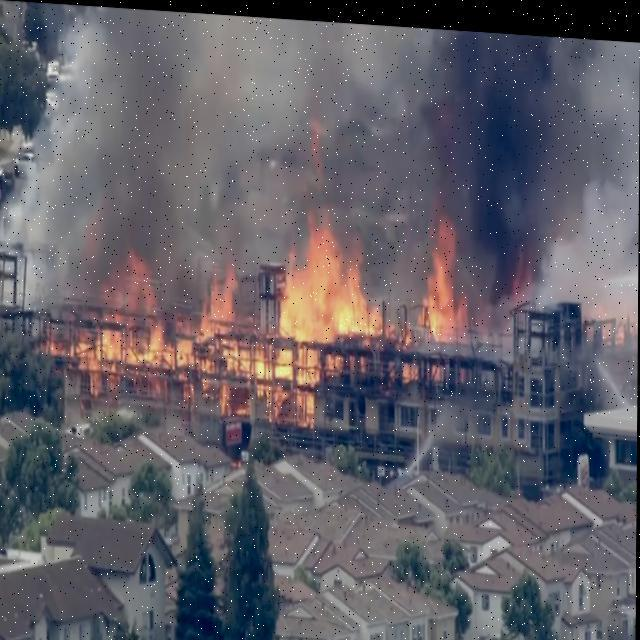Fire: (51, 218, 480, 418)
